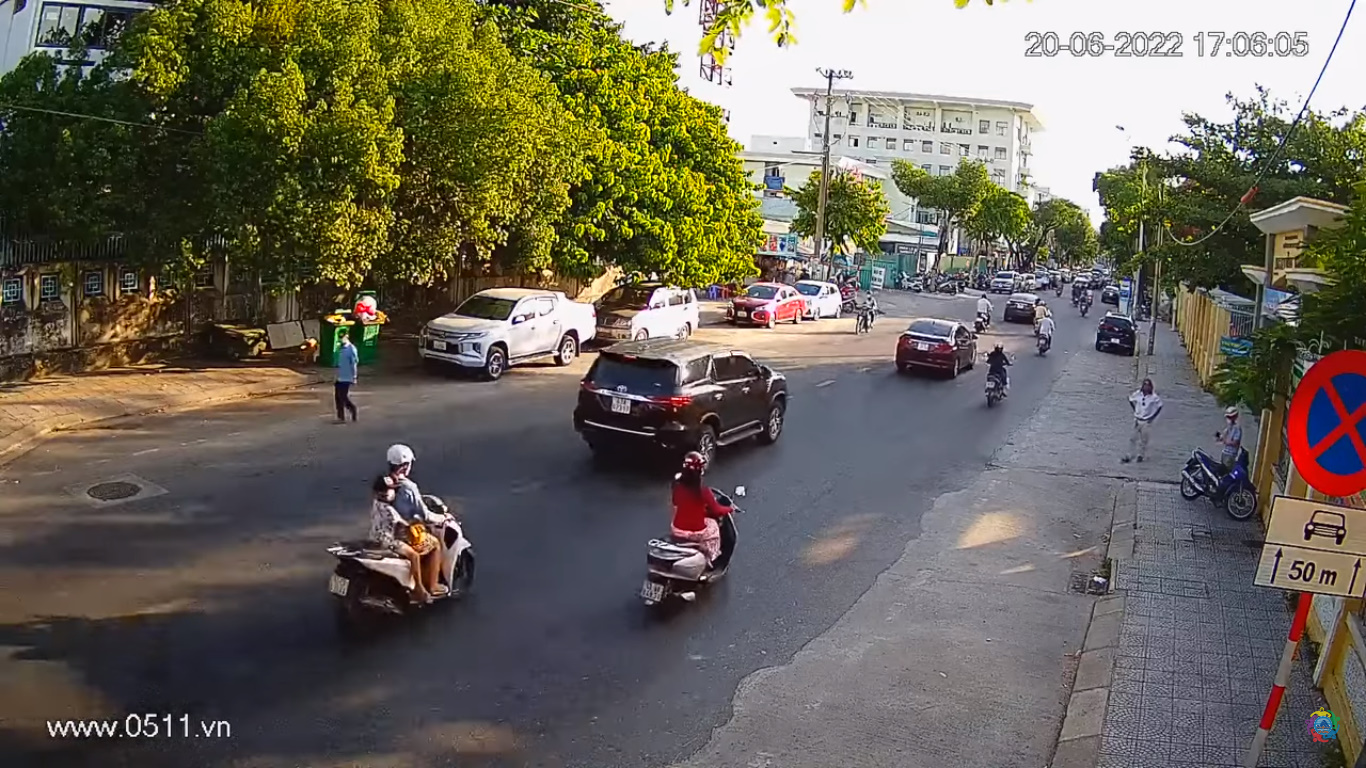car: (574, 330, 791, 472), (894, 315, 979, 380)
